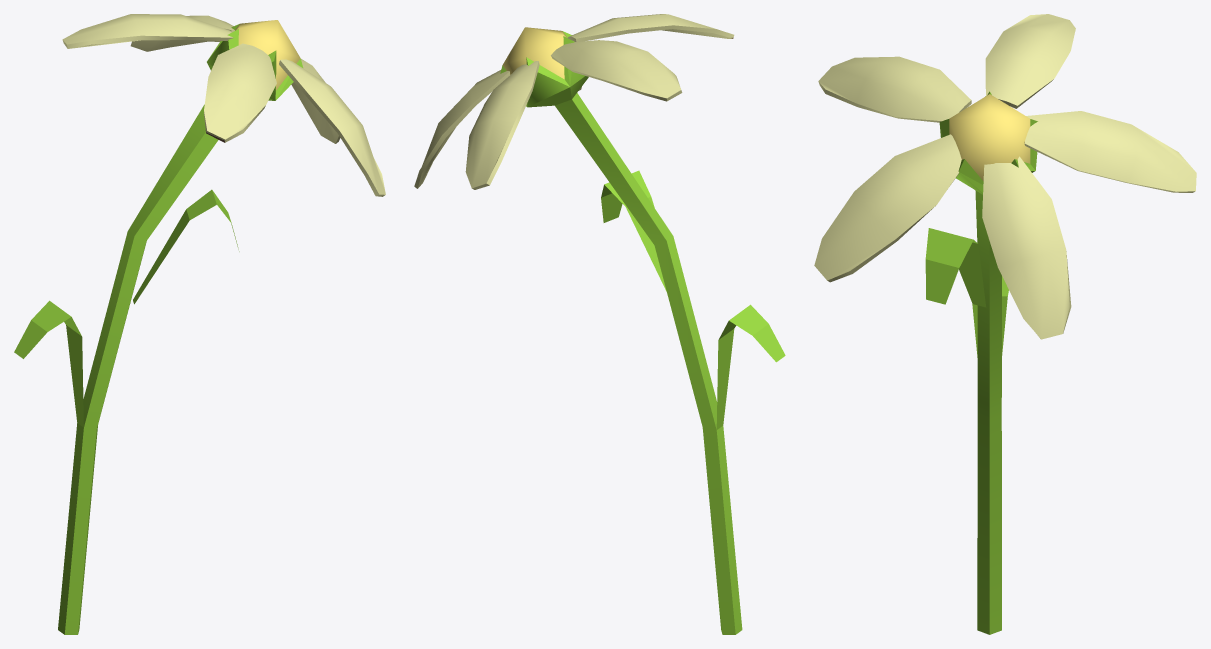
The model's file is Flower_B.FBX.
The picture shows the model from 3 angles, left to right: view 1: azimuth 30°, elevation 25°; view 2: azimuth 150°, elevation 25°; view 3: azimuth 270°, elevation 25°; orthographic projection. The views are drawn at different scales.
Visible parts, largest first — view 1: Flower_B; view 2: Flower_B; view 3: Flower_B.
Boxes of the visible parts, x1,y1,x2,y2 form: Flower_B: [14, 14, 385, 634]; Flower_B: [414, 14, 785, 634]; Flower_B: [814, 14, 1196, 634].
Bounding box in the file's own units: 369 × 596 × 319.
